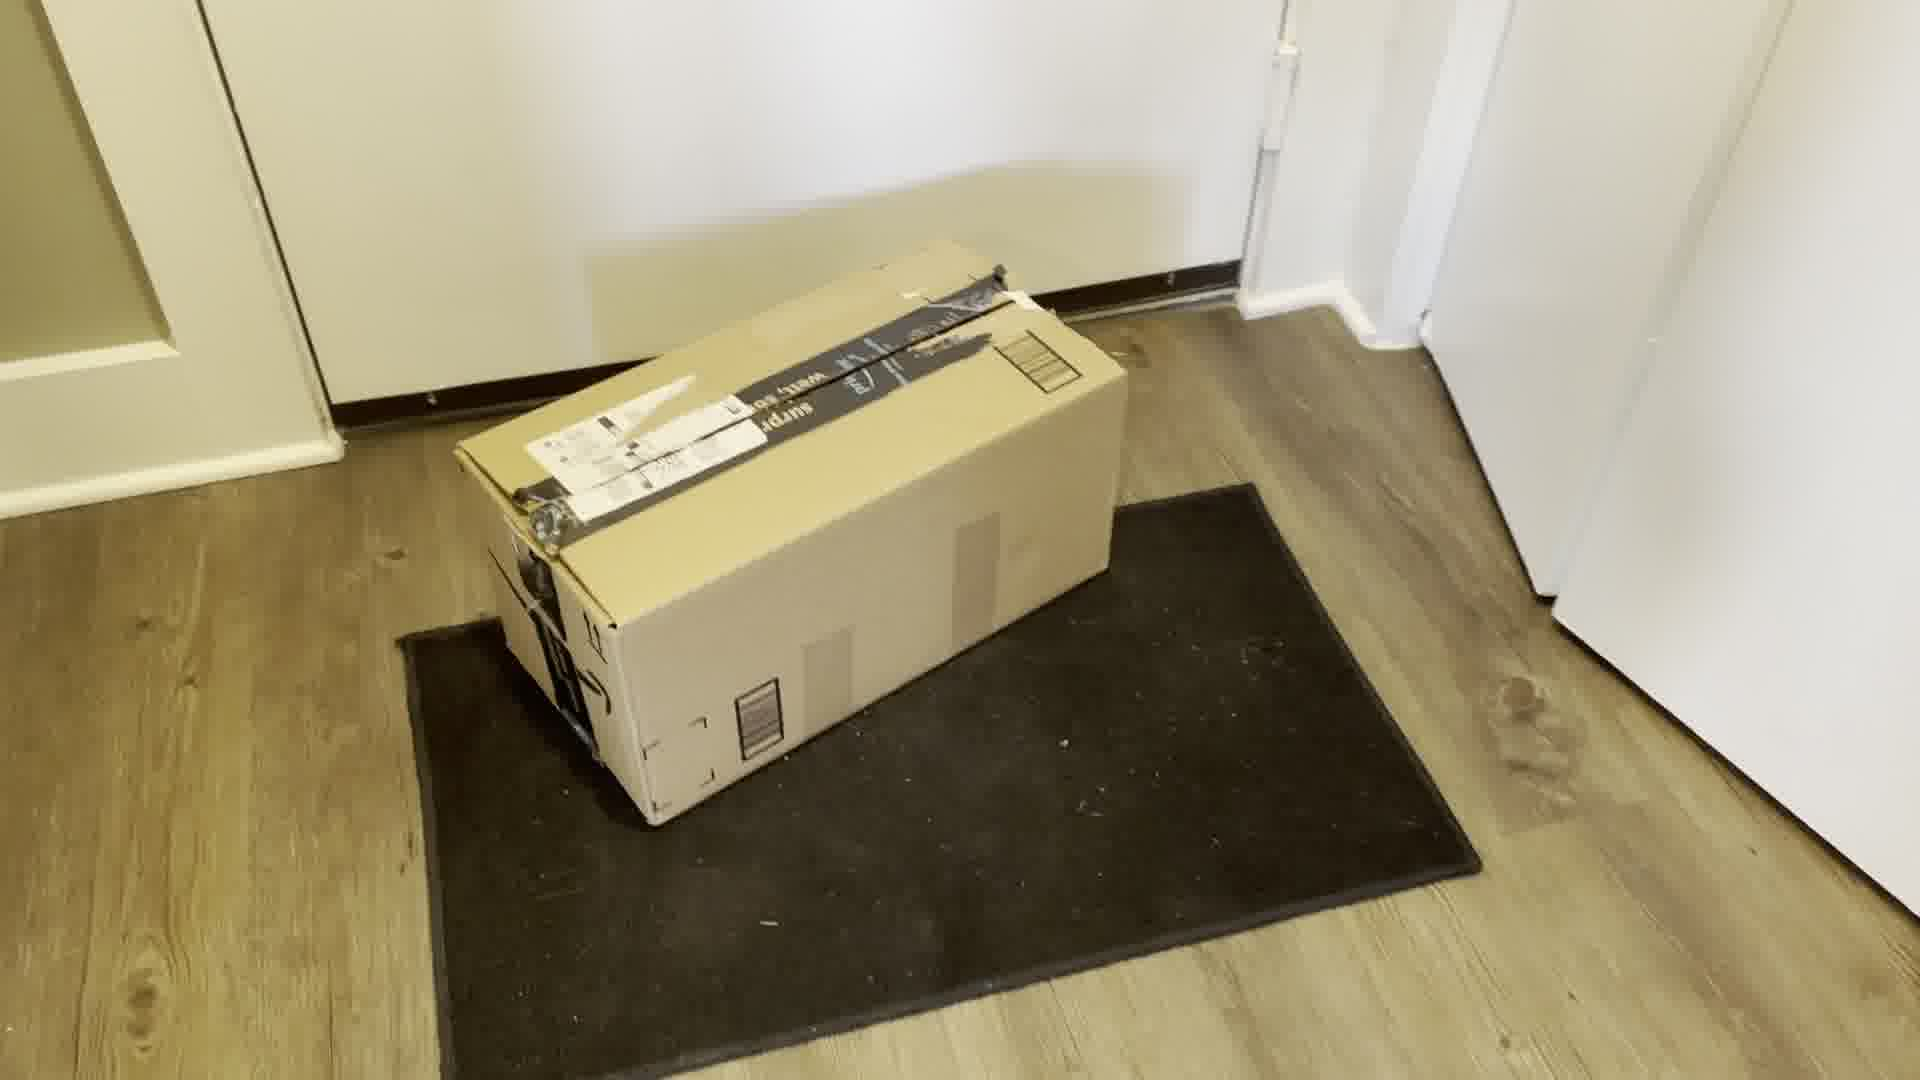box: (431, 260, 1146, 804)
